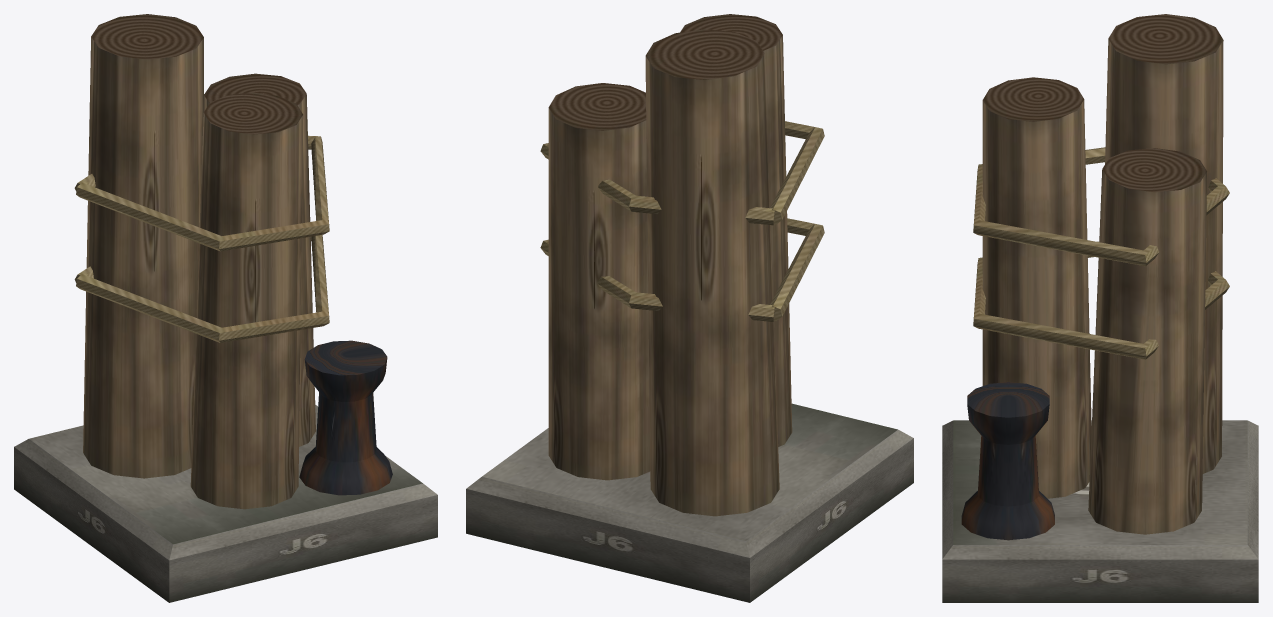
Rendered from prop_pillar_bollard-BWnmtEBD.glb.
The picture shows the model from 3 angles, left to right: view 1: azimuth 30°, elevation 25°; view 2: azimuth 150°, elevation 25°; view 3: azimuth 270°, elevation 25°; orthographic projection. The views are drawn at different scales.
Parts seen in each view (by area): view 1: prop_pillar_bollard_body; view 2: prop_pillar_bollard_body; view 3: prop_pillar_bollard_body.
Part boxes in pixels (left/top/right/bottom): prop_pillar_bollard_body: left=14, top=14, right=437, bottom=602; prop_pillar_bollard_body: left=466, top=14, right=913, bottom=602; prop_pillar_bollard_body: left=942, top=14, right=1258, bottom=602.
Size of the model in its own units: 0.86 by 1.42 by 0.86.
1 material, 1 textured.
